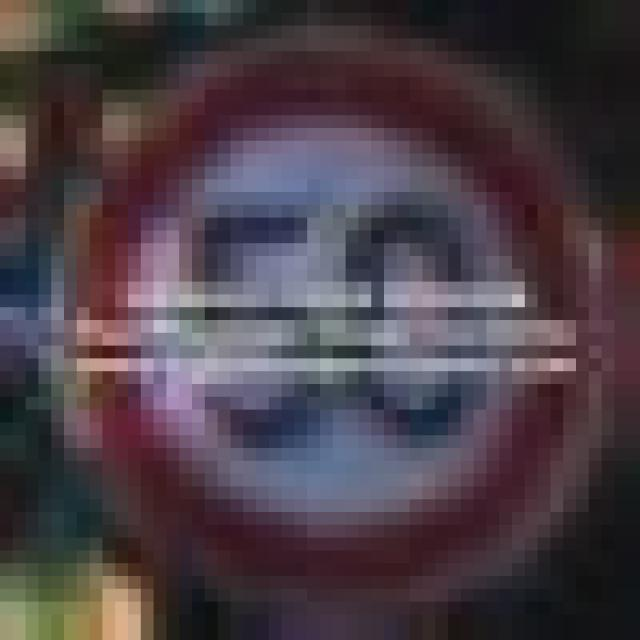speed_limit_30: (64, 51, 589, 589)
